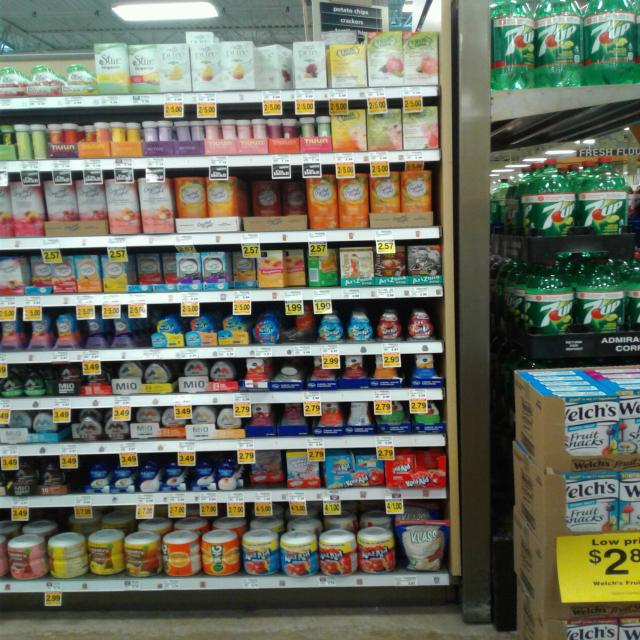unorganised: (248, 167, 301, 216), (285, 243, 339, 288), (46, 532, 89, 579), (318, 529, 357, 577), (256, 43, 291, 90), (161, 532, 199, 575), (131, 248, 175, 284), (247, 451, 284, 490), (281, 301, 314, 342), (306, 244, 335, 288), (228, 245, 256, 287), (373, 242, 406, 275), (26, 250, 49, 289)
